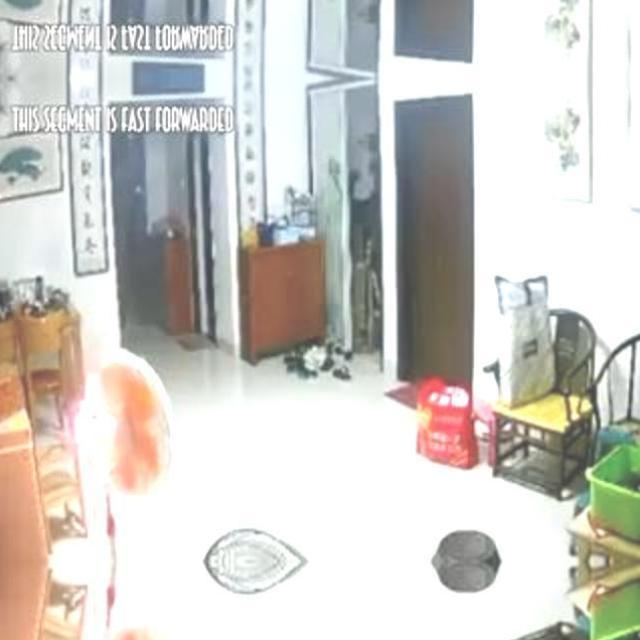smoke: (76, 370, 121, 560), (76, 563, 120, 640)
